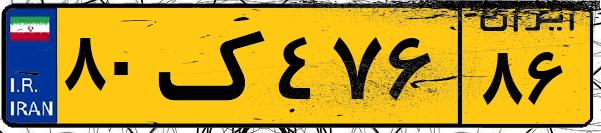0: (110, 28, 158, 98)
4: (270, 28, 330, 110)
6: (385, 28, 445, 110), (525, 38, 570, 115)
7: (330, 28, 385, 110)
8: (57, 26, 110, 100), (475, 38, 525, 113)
ک: (158, 12, 270, 120)
